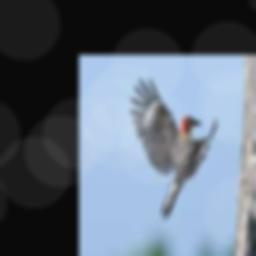Woodpecker: (129, 77, 217, 221)
